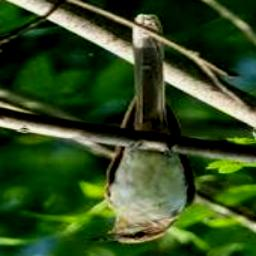Cuckoo: (86, 18, 196, 243)
